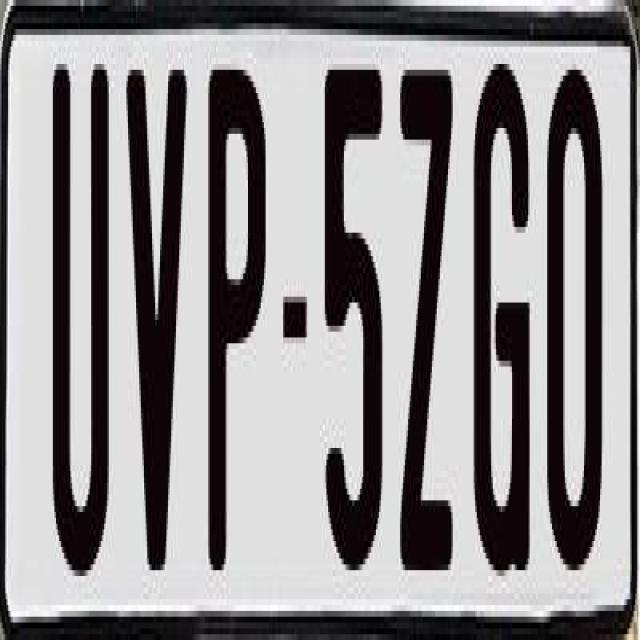0: (547, 52, 602, 553)
5: (320, 52, 382, 582)
G: (473, 64, 532, 588)
P: (203, 63, 270, 600)
U: (52, 64, 116, 576)
V: (124, 52, 194, 564)
Z: (395, 52, 451, 576)
